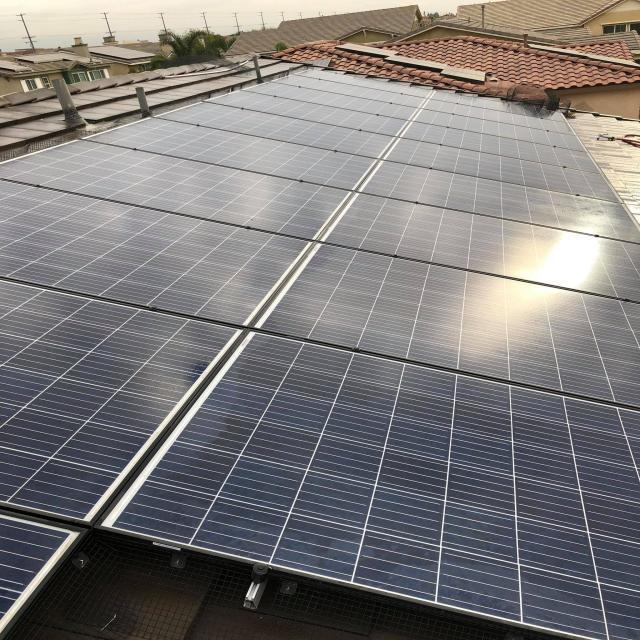Photovoltaic-Panel: (0, 67, 640, 640)
